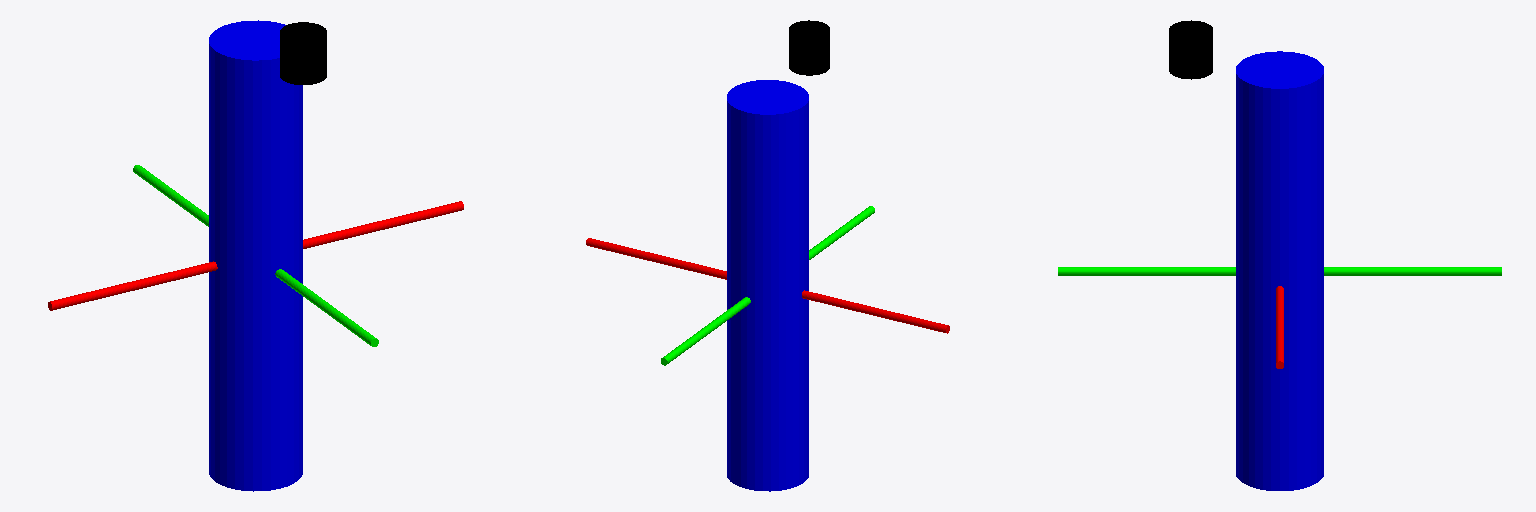
robot.urdf — roboat:
<?xml version="1.0"?>
<robot name="roboat">
  <!-- First, define all materials at the top level -->
  <material name="orange">
    <color rgba="1 0.549 0 1"/>
  </material>
  
  <material name="red">
    <color rgba="1 0 0 1"/>
  </material>
  
  <material name="green">
    <color rgba="0 1 0 1"/>
  </material>
  
  <material name="blue">
    <color rgba="0 0 1 1"/>
  </material>
  
  <material name="black">
    <color rgba="0 0 0 1"/>
  </material>

  <link name="world"/>

  <joint name="world_to_base" type="fixed">
    <parent link="world"/>
    <child link="base_link"/>
    <origin xyz="0 0 0" rpy="0 0 0"/>
  </joint>

  <link name="base_link">
    <inertial>
      <origin xyz="0 0 0" rpy="0 0 0"/>
      <mass value="1.0"/>
      <inertia ixx="0.000833" iyy="0.000833" izz="0.000833" ixy="0" ixz="0" iyz="0"/>
    </inertial>

    <visual>
      <origin xyz="0.75 0.4 -0.3" rpy="0 0 3.14"/>
      <geometry>
        <mesh filename="Aritravessel.STL" scale="0.001 0.001 0.001"/>
      </geometry>
      <material name="orange"/>
    </visual>

    <collision>
      <origin xyz="0 0 0" rpy="0 0 3.14"/>
      <geometry>
        <mesh filename="Aritravessel.STL" scale="0.001 0.001 0.001"/>
      </geometry>
    </collision>
  </link>

  <joint name="base_to_axes" type="fixed">
    <parent link="base_link"/>
    <child link="axes_visualization"/>
    <origin xyz="0 0 0" rpy="0 0 0"/>
  </joint>

  <link name="axes_visualization">
    <visual>
      <origin xyz="0 0 0" rpy="0 1.5708 0"/>
      <geometry>
        <cylinder length="1.0" radius="0.01"/>
      </geometry>
      <material name="red"/>
    </visual>

    <visual>
      <origin xyz="0 0 0" rpy="1.5708 0 0"/>
      <geometry>
        <cylinder length="1.0" radius="0.01"/>
      </geometry>
      <material name="green"/>
    </visual>

    <visual>
      <origin xyz="0 0 0" rpy="0 0 0"/>
      <geometry>
        <cylinder length="1.0" radius="0.1"/>
      </geometry>
      <material name="blue"/>
    </visual>
  </link>

  <joint name="base_to_front_ball" type="fixed">
    <parent link="base_link"/>
    <child link="front_ball"/>
    <origin xyz="0 0 0" rpy="0 0 0"/>
  </joint>

  <link name="front_ball">
    <inertial>
      <origin xyz="0 0 0" rpy="0 0 0"/>
      <mass value="1.0"/>
      <inertia ixx="0.000833" iyy="0.000833" izz="0.000833" ixy="0" ixz="0" iyz="0"/>
    </inertial>

    <visual>
      <geometry>
        <sphere radius="0.05"/>
      </geometry>
      <material name="red"/>
    </visual>

    <collision>
      <geometry>
        <sphere radius="0.05"/>
      </geometry>
    </collision>
  </link>

  <joint name="base_to_camera" type="fixed">
    <parent link="base_link"/>
    <child link="camera_link"/>
    <origin xyz="0.0 0 0.0" rpy="0 0 0"/>
  </joint>

  <link name="camera_link">
    <visual>
      <geometry>
        <box size="0.02 0.05 0.02"/>
      </geometry>
      <material name="blue"/>
    </visual>
    <collision>
      <geometry>
        <box size="0.05 0.05 0.05"/>
      </geometry>
    </collision>
    <inertial>
      <mass value="0.1"/>
      <inertia ixx="0.000016" iyy="0.000016" izz="0.000025" ixy="0" ixz="0" iyz="0"/>
    </inertial>
  </link>

  <joint name="base_to_lidar" type="fixed">
    <parent link="base_link"/>
    <child link="lidar_link"/>
    <origin xyz="0 -0.2 0.55" rpy="0 0 0"/>
  </joint>

  <link name="lidar_link">
    <visual>
      <geometry>
        <cylinder radius="0.05" length="0.1"/>
      </geometry>
      <material name="black"/>
    </visual>
    <collision>
      <geometry>
        <cylinder radius="0.05" length="0.1"/>
      </geometry>
    </collision>
    <inertial>
      <mass value="0.1"/>
      <inertia ixx="0.000016" iyy="0.000016" izz="0.000025" ixy="0" ixz="0" iyz="0"/>
    </inertial>
  </link>

</robot>

--- What the picture shows (computed from the rendered views, not written in the file) ---
3 views of the same robot in one strip: view 1: azimuth 30°, elevation 25°; view 2: azimuth 150°, elevation 25°; view 3: azimuth 270°, elevation 25° (orthographic).
Model roboat with 6 links and 5 joints (5 fixed), rooted at world, posed every joint at zero.
Visible links, largest first — view 1: axes_visualization, lidar_link; view 2: axes_visualization, lidar_link; view 3: axes_visualization, lidar_link.
Link boxes in pixels (<box>): axes_visualization: <box>48,20,463,491</box>; lidar_link: <box>280,22,326,84</box>; axes_visualization: <box>586,80,949,491</box>; lidar_link: <box>789,20,829,75</box>; axes_visualization: <box>1058,51,1501,490</box>; lidar_link: <box>1169,20,1212,79</box>.
Bounding box of the posed robot: 1 × 1 × 1.1 m (x, y, z).
Meshes: 1 distinct files referenced, 0 mesh visuals loaded (none loaded); not drawn: 1 (reference not matched to a file when rendering).
